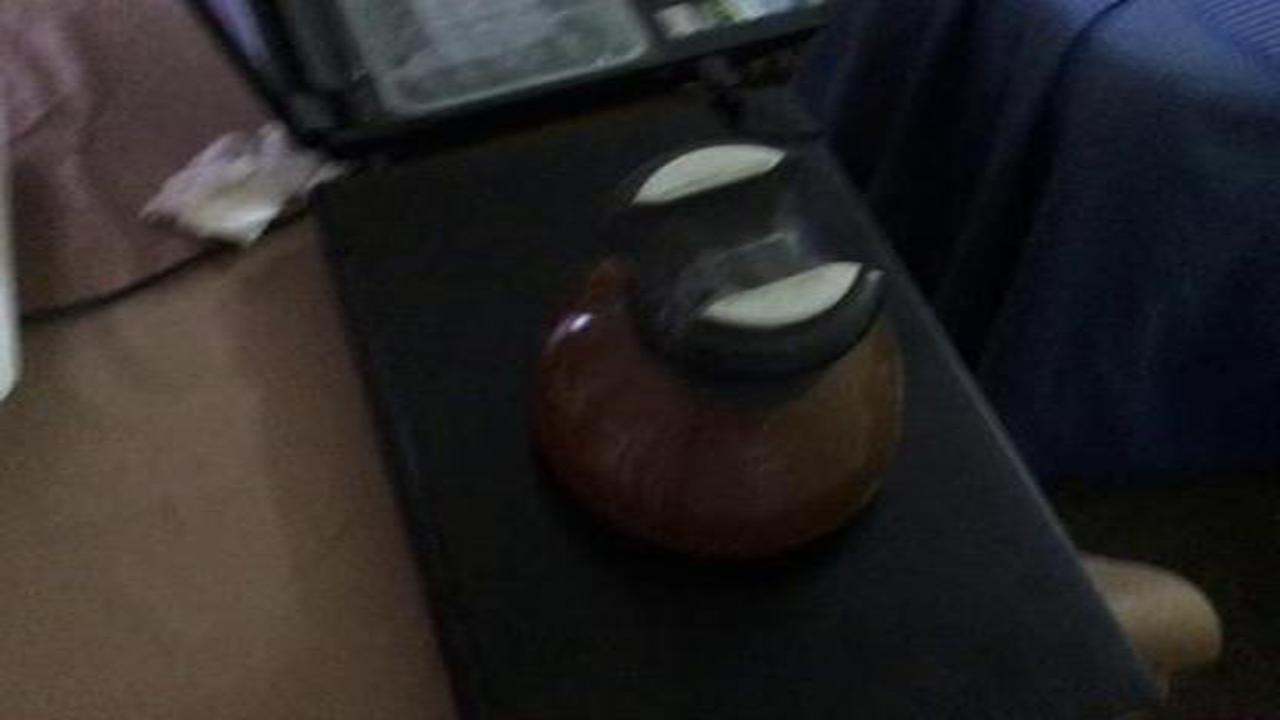insulator_pin: (517, 126, 927, 589)
